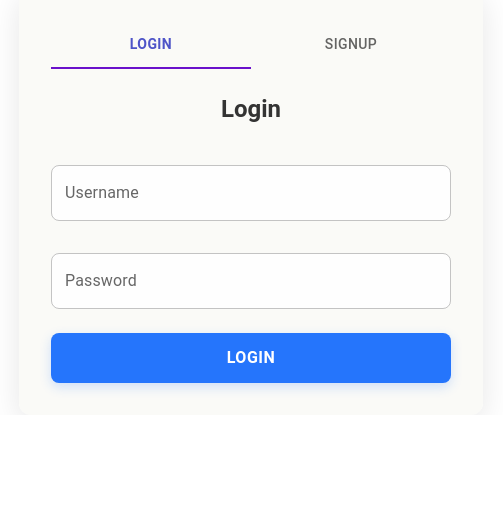
Test: Login Component › Muestra error con password incorrecta
Click the tab "Signup": (351, 45) [251,21,451,69]
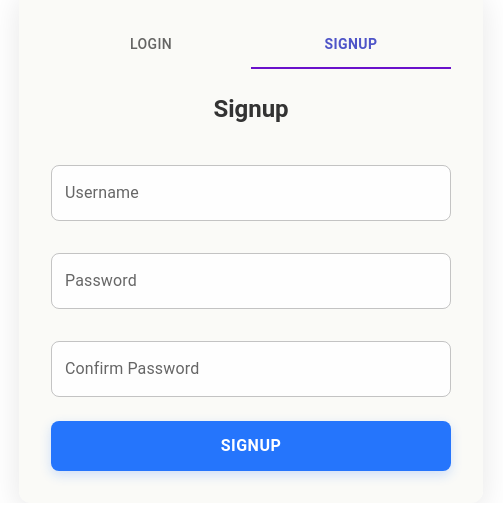
In the field labelled "Username": (251, 193) [51,165,451,221], type "user"
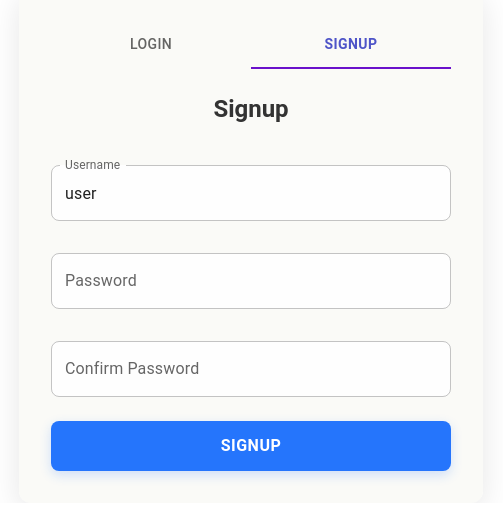
In the password field labelled "Password": (251, 281) [51,253,451,309], type "1234"
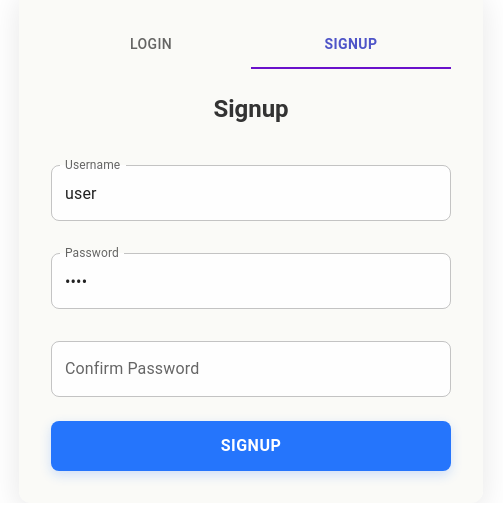
In the password field labelled "Confirm Password": (251, 369) [51,341,451,397], type "abcd"
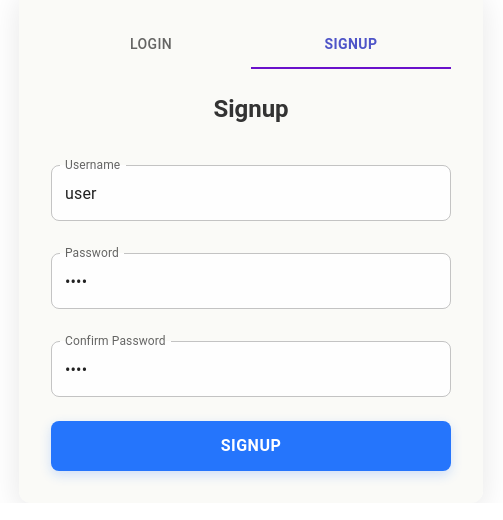
Click the button with test id "signup-button": (251, 446) [51,421,451,471]
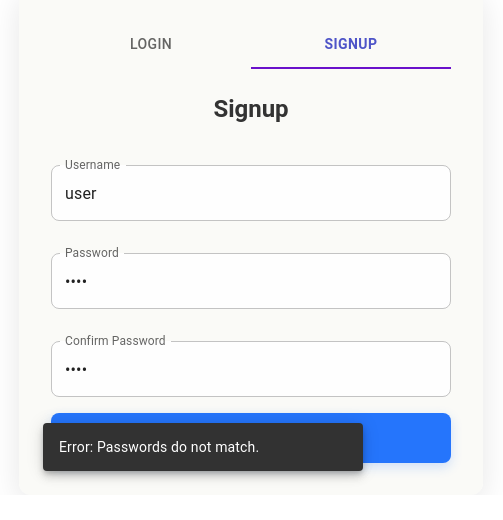
Result: the text "Error: Passwords do not match." is shown at [59,439,259,455]
